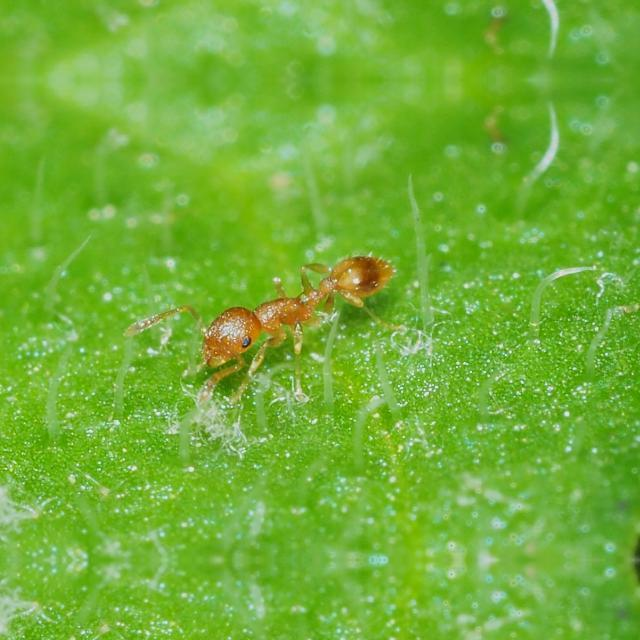Temnothorax: (150, 233, 420, 411)
